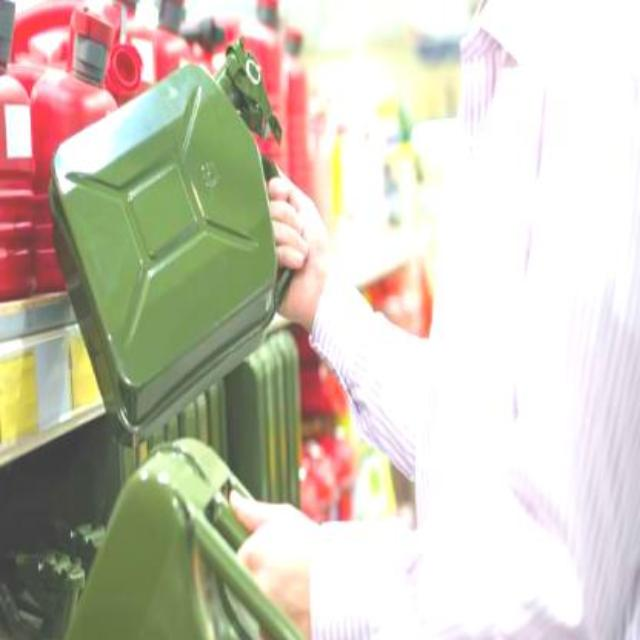chemical_plastic_gallon: (48, 29, 282, 437)
